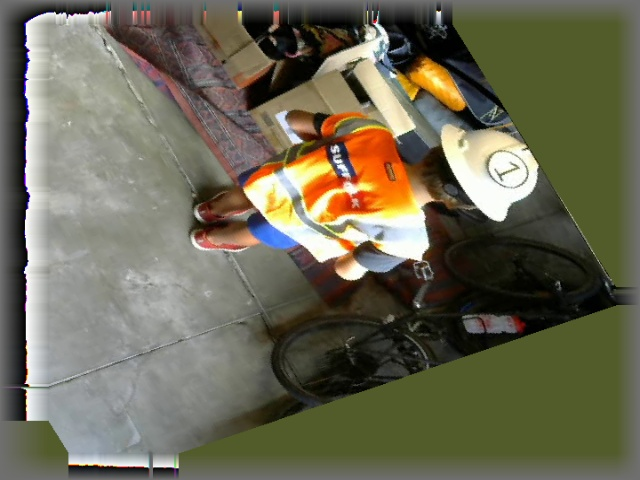one: (478, 145, 536, 192)
